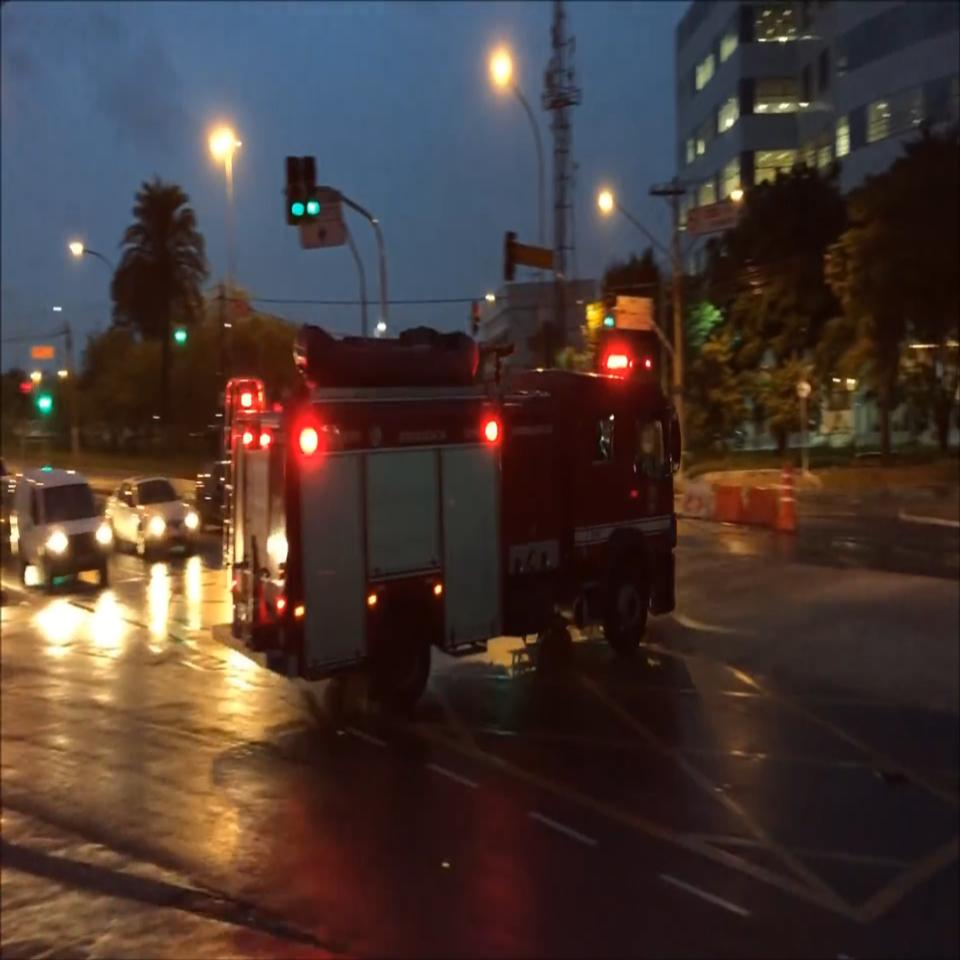viatura: (221, 321, 686, 710)
